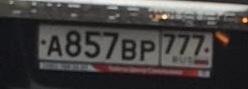license-plateSW: (38, 26, 215, 67)
